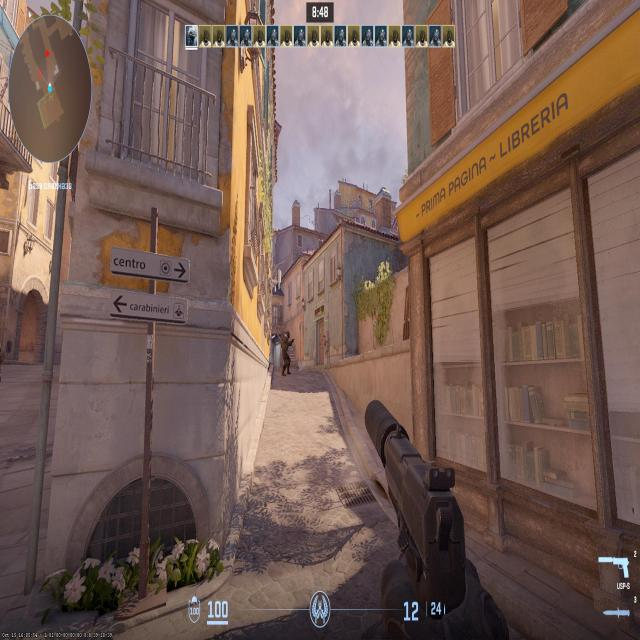CT: (283, 334, 290, 372)
CT_heat: (286, 336, 288, 340)
